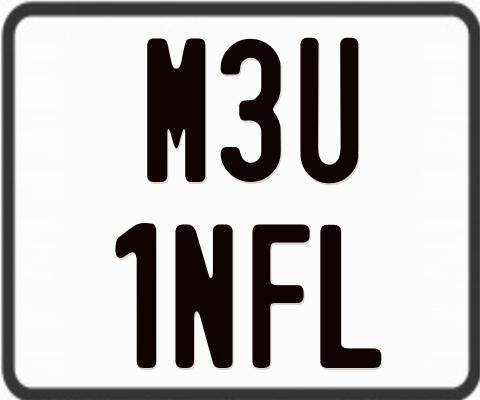1: (115, 220, 159, 368)
3: (219, 39, 284, 188)
F: (249, 222, 307, 371)
L: (320, 225, 386, 370)
M: (145, 35, 203, 179)
N: (172, 223, 234, 369)
U: (300, 36, 362, 185)
